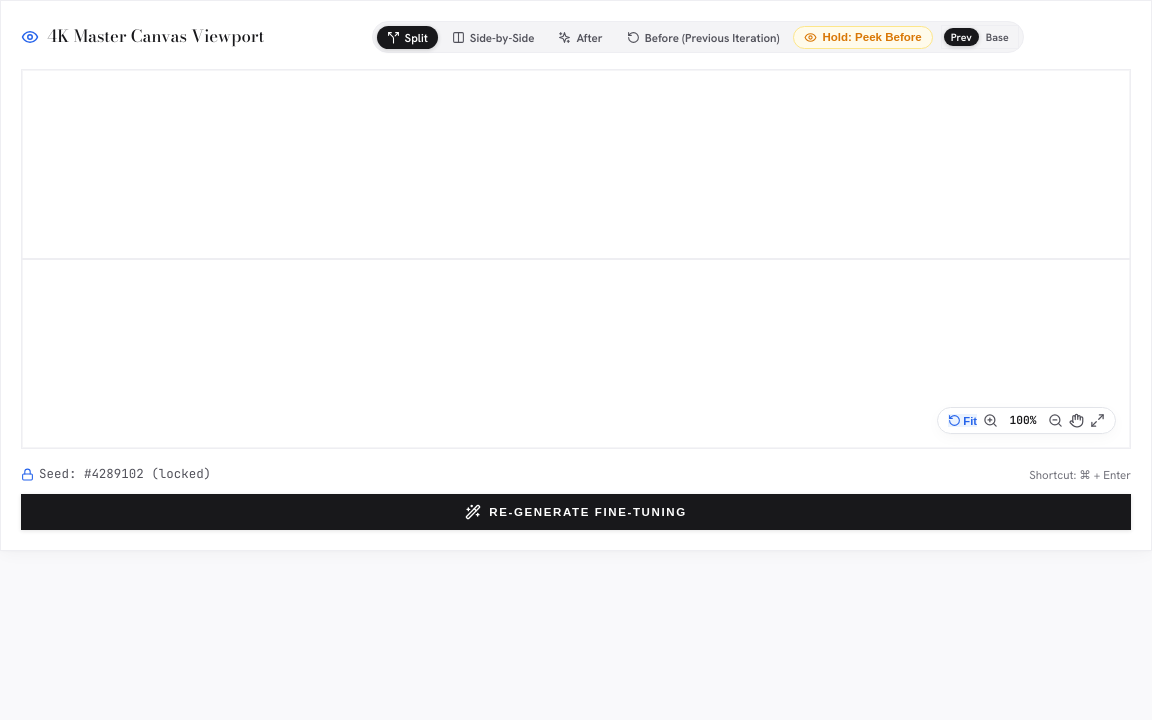
Test: CanvasViewport › allows toggling between Previous and Baseline when both references exist
expect the button "Prev" is shown: met, box [944, 28, 979, 46]
Click the button titled "Compare with original baseline photo" at x=997, y=37, box [979, 28, 1016, 46]
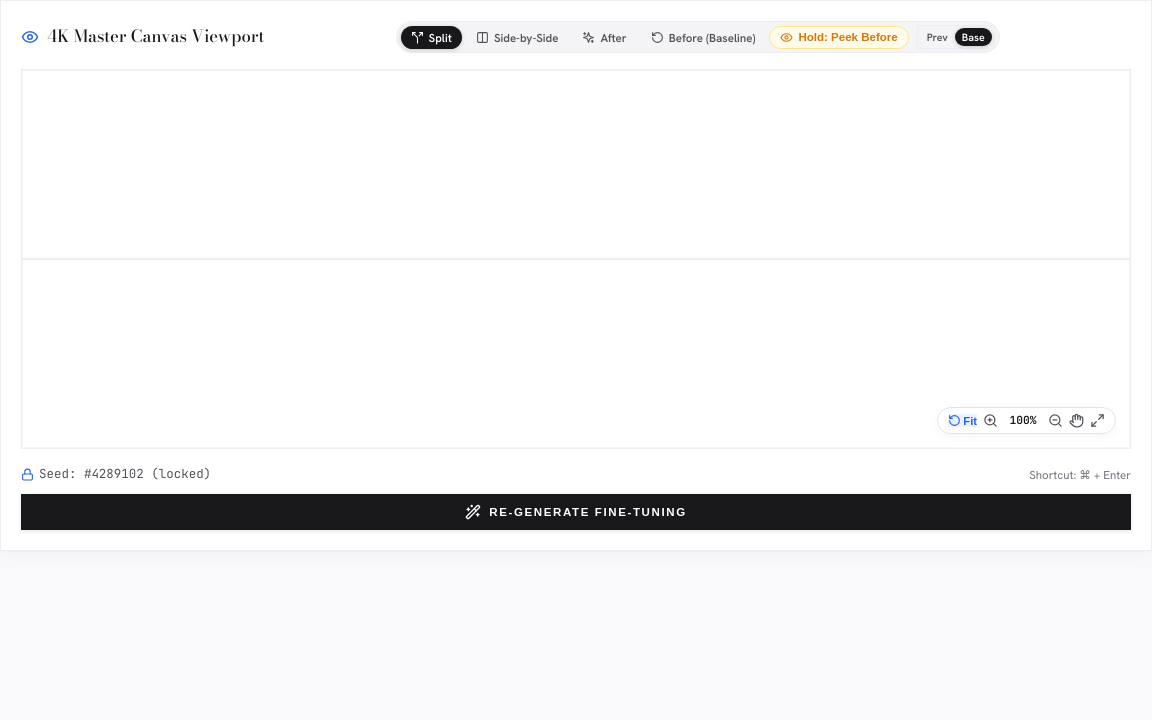
expect the text "Before (Baseline)" is shown: met, box [669, 30, 756, 44]
